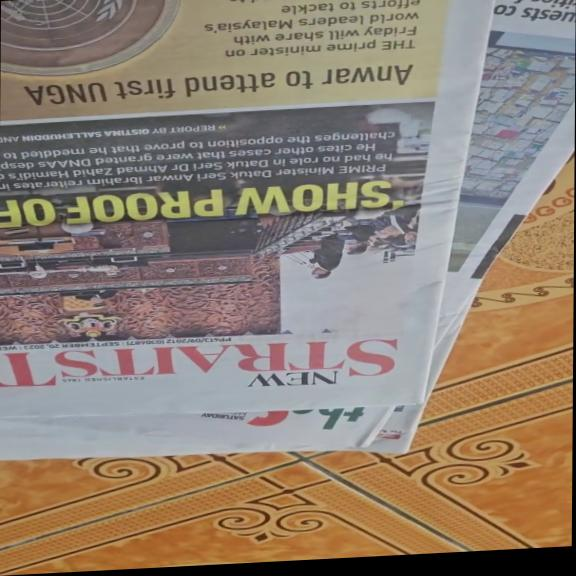Kertas: (12, 0, 565, 472)
